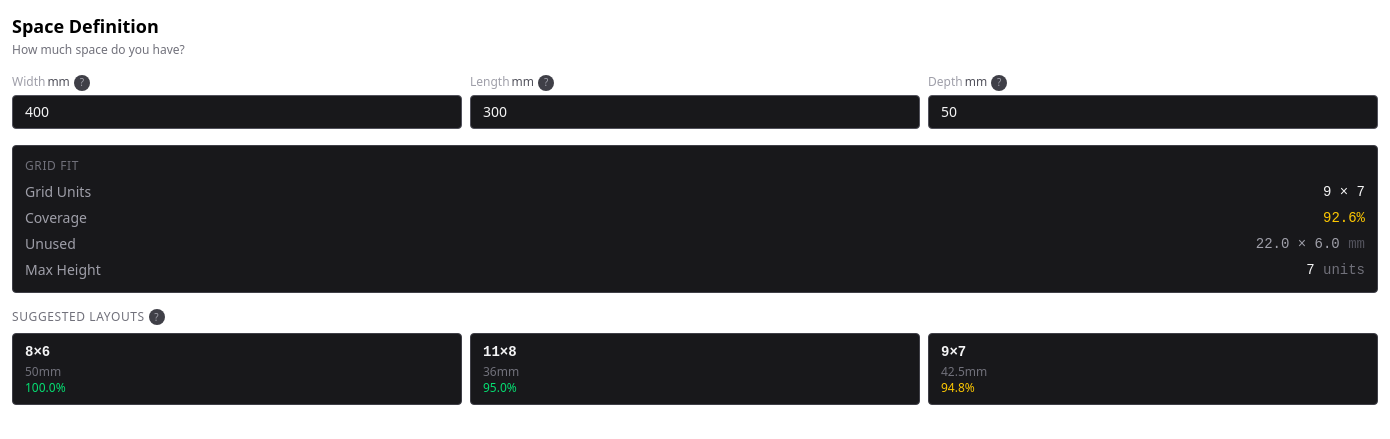
it: SpaceConfigPanel — interactions › updates grid fit when length changes
This screenshot has width=1390, height=439.
Replace the text in the number field with id "space-length" with "126". click: (695, 112)
box: [470,95,920,129]
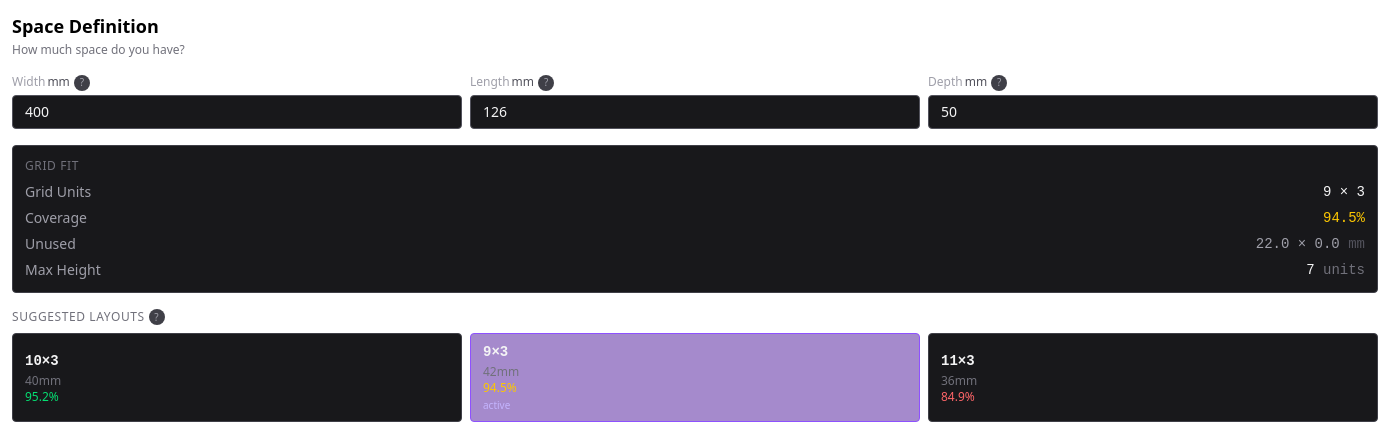
Now the text with test id "fit-unitsY" reads "3", box [1357,184,1365,200]
